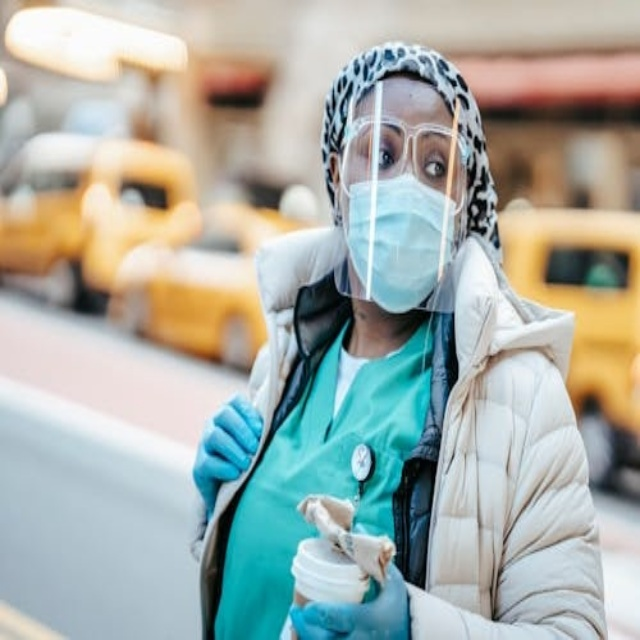Gafas: (341, 113, 471, 208)
Guantes: (290, 558, 411, 640), (191, 393, 263, 518)
Mascara: (343, 164, 460, 313)
